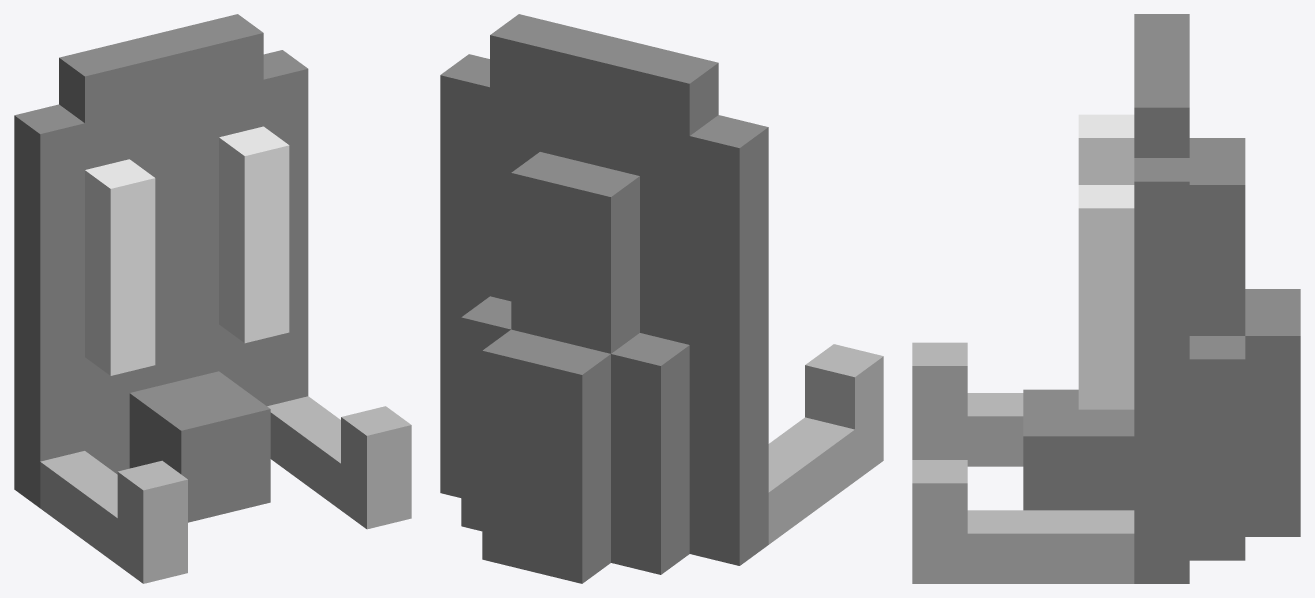
Rendered from smthng.obj.
3 views of the same model, side by side, from view 1: azimuth 30°, elevation 25°; view 2: azimuth 150°, elevation 25°; view 3: azimuth 270°, elevation 25° (orthographic). The views are drawn at different scales.
Bounding box in the file's own units: 0.6 × 0.9 × 0.7.
1 material, 1 textured.
